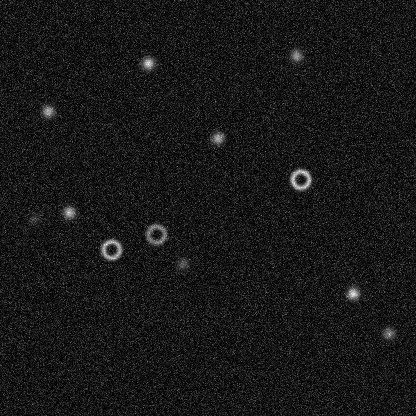Ring: (144, 222, 168, 246), (99, 237, 123, 261), (288, 167, 312, 191)
Spot: (209, 130, 225, 146), (380, 325, 396, 341), (140, 55, 156, 71), (344, 285, 360, 301), (39, 103, 55, 119), (26, 210, 42, 226), (61, 204, 77, 220), (288, 47, 304, 63), (174, 255, 190, 271)
